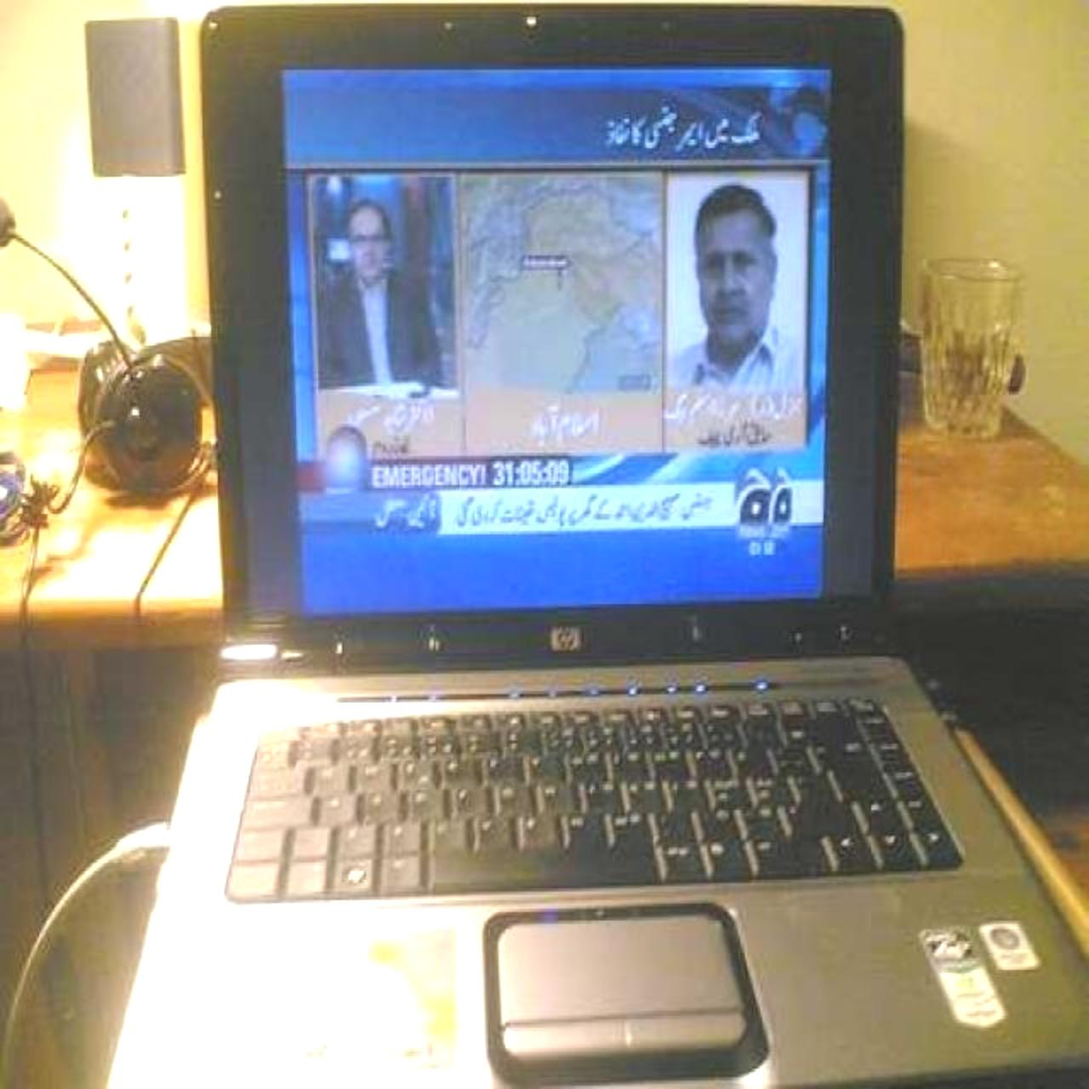laptop: (178, 17, 1088, 1089)
